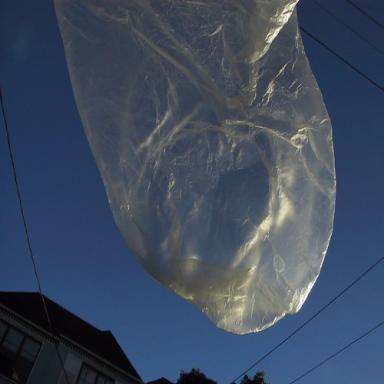clothing: (54, 3, 340, 318)
